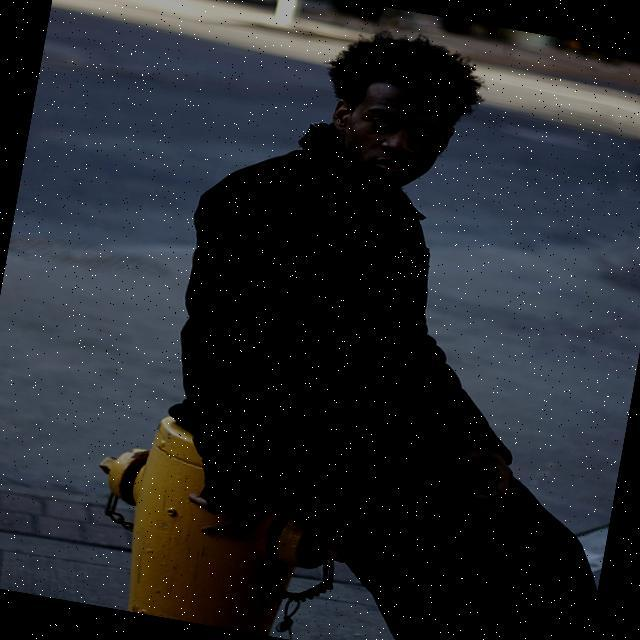fire_hydrant: (74, 406, 362, 640)
